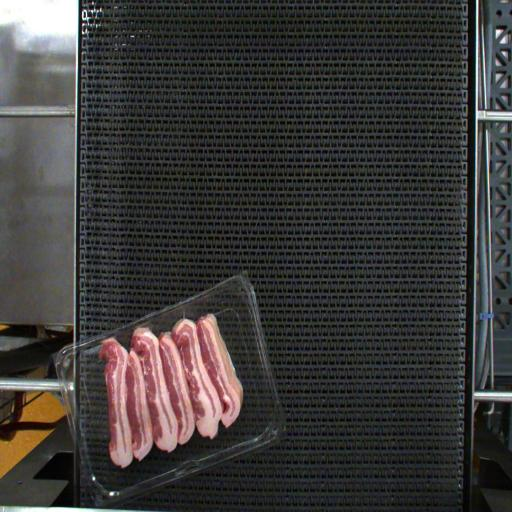packaging-error: (90, 330, 126, 349), (177, 302, 190, 324)
